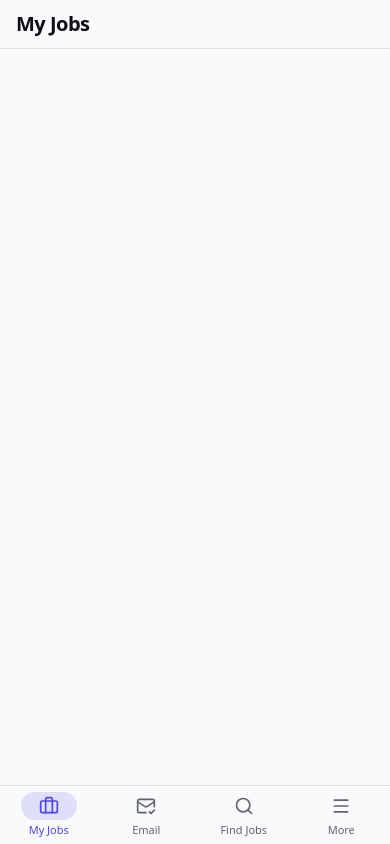
Test: phone tab bar › lists Admin only for an admin
Click the button "More".
click(341, 815)  # box [292,786,389,843]
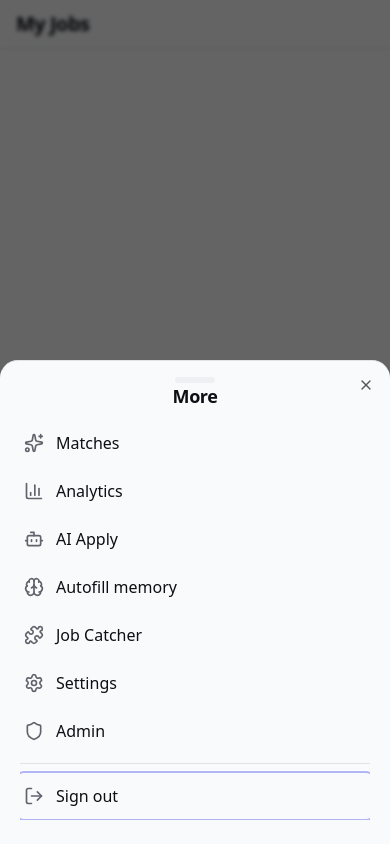
Check: the link "Admin" is shown, box [24,720,105,742]
